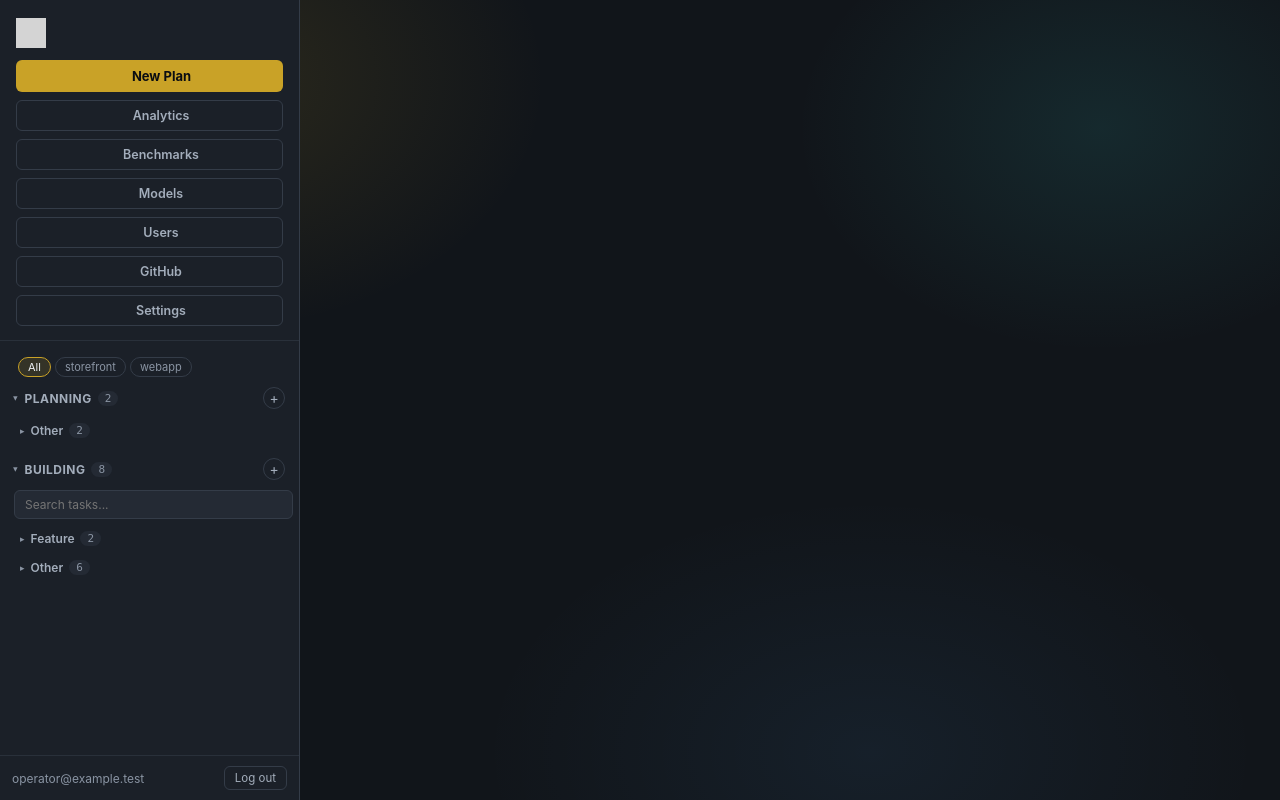
Test: Sidebar — repo filter › applies to building and planning together
Click the button "webapp": (161, 367) [130,357,192,377]
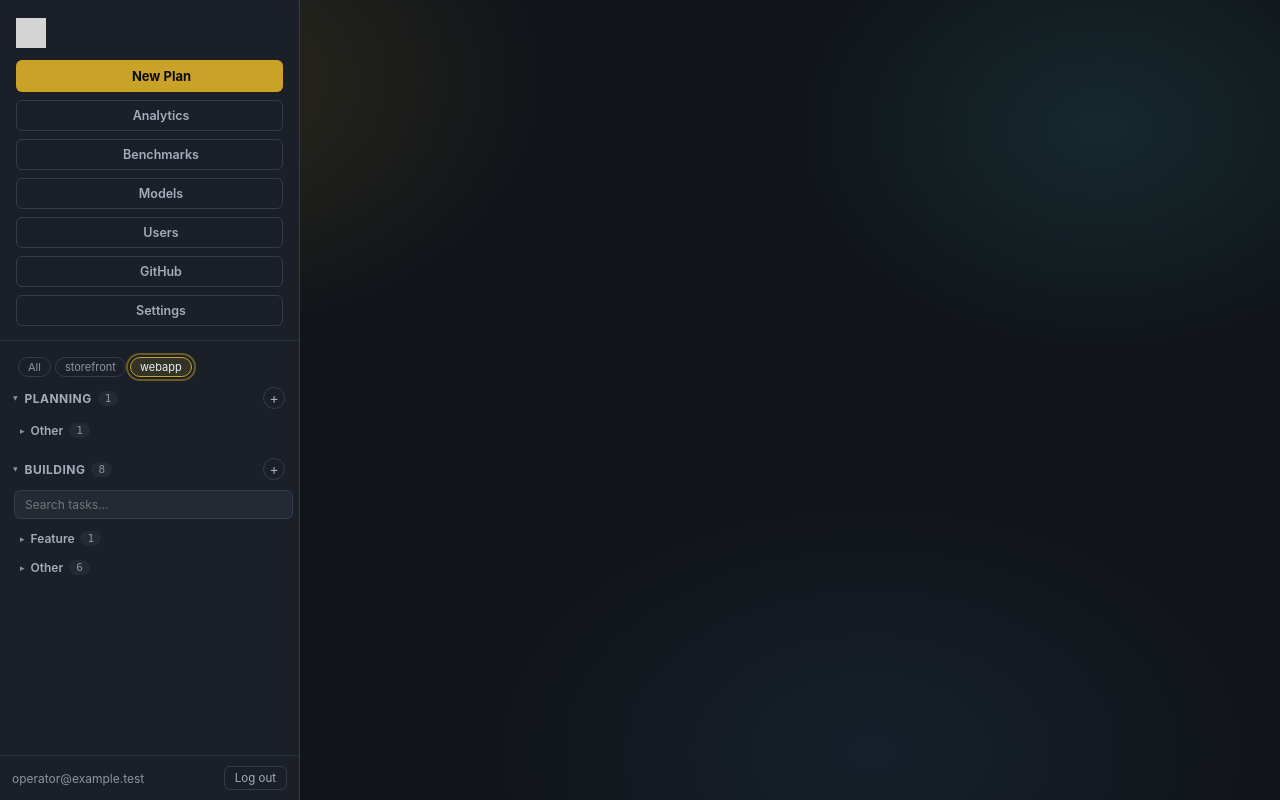
In the field with placeholder "Search tasks...": (154, 504) [14,490,293,519], type "task"
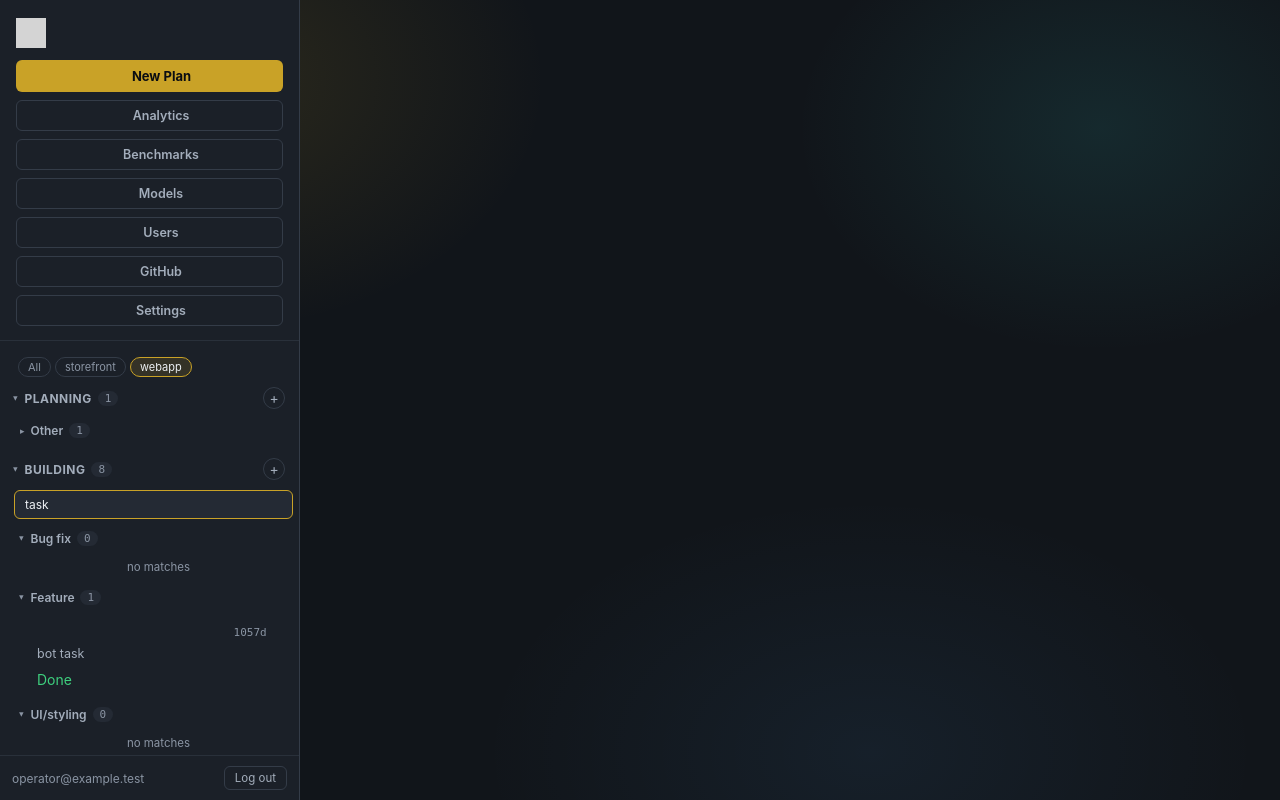
Expected: the text "bot task" is shown, [37,646,84,661]
